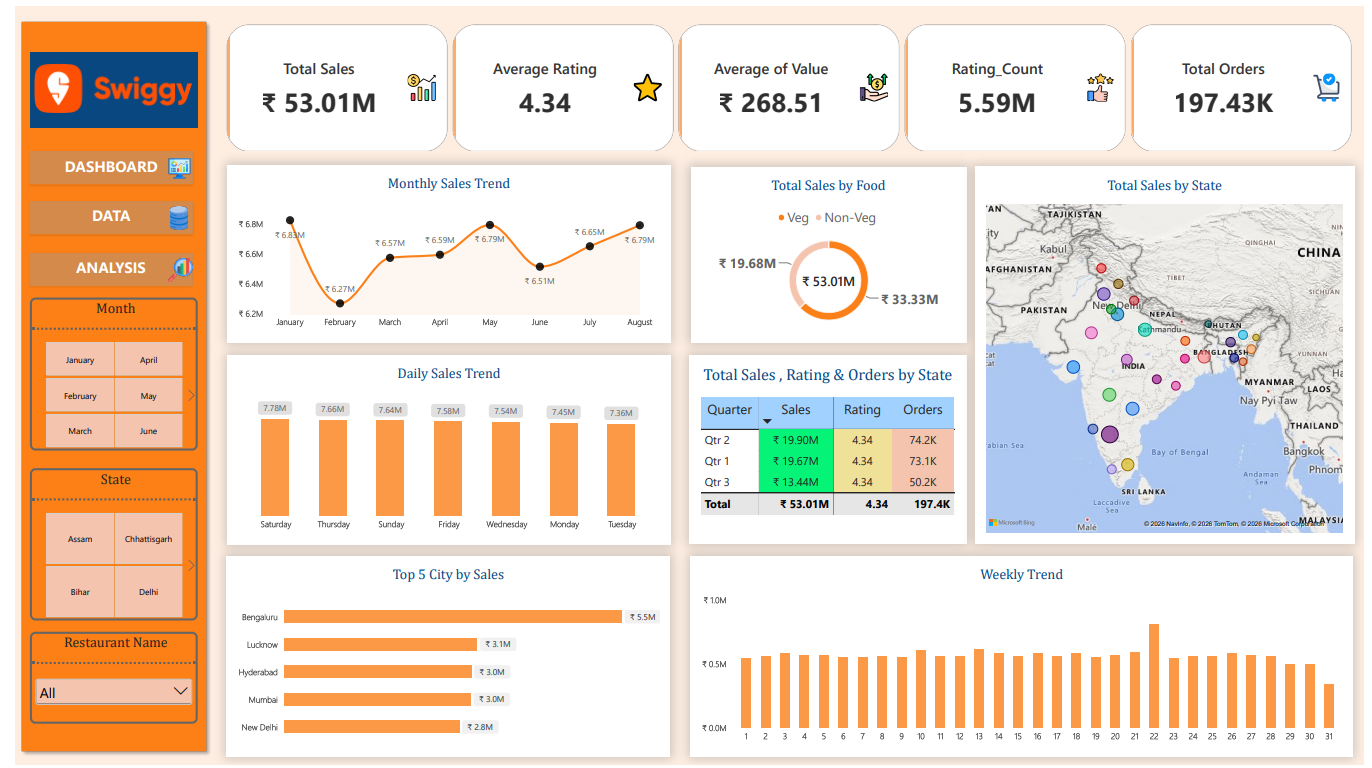

The dashboard page shown, as its layout file describes it:
{"tool":"powerbi","page":{"name":"Page 1","canvas":[1920,1080],"ordinal":0},"visuals":[{"type":"shape","box":[0,12.7,278.7,1055],"z":0},{"type":"shape","box":[19.9,65.1,238.9,106.8],"z":1000},{"type":"cardVisual","fields":{"Data":["Swiggy Data.Total Sales","Swiggy Data.Average Rating","Swiggy Data.Average of Value","Swiggy Data.Rating_Count","Swiggy Data.Total Orders"]},"box":[300.4,25.3,1605.2,181],"z":2000},{"type":"lineChart","title":"Monthly  Sales Trend","fields":{"Category":["Swiggy Data.Order Date.Variation.Date Hierarchy.Month"],"Y":["Swiggy Data.Total Sales"]},"box":[300.8,225.1,631.9,253.2],"z":3000},{"type":"donutChart","title":"Total Sales by Food","fields":{"Y":["Swiggy Data.Total Sales"],"Category":["Swiggy Data.Food Type"]},"box":[960.9,228,392.7,249.7],"z":4000},{"type":"clusteredColumnChart","title":"Daily Sales Trend","fields":{"Category":["Swiggy Data.Day"],"Y":["Sum(Swiggy Data.Price)"]},"box":[300.8,495.6,631.9,270.5],"z":5000},{"type":"tableEx","title":"Total Sales , Rating & Orders by State","fields":{"Values":["Swiggy Data.Order Date.Variation.Date Hierarchy.Quarter","Swiggy Data.Total Sales","Swiggy Data.Average Rating","Swiggy Data.Total Orders"]},"box":[959.1,495.8,394.5,269.6],"z":6000},{"type":"map","title":"Total Sales by State","fields":{"Size":["Swiggy Data.Total Sales"],"Category":["Swiggy Data.State"],"Series":["Swiggy Data.City"]},"box":[1366.3,228,539.3,537.5],"z":7000},{"type":"clusteredBarChart","title":"Top 5 City by Sales","fields":{"Y":["Swiggy Data.Total Sales"],"Category":["Swiggy Data.City"]},"box":[300.4,781.8,631.6,285.9],"z":8000},{"type":"columnChart","title":"Weekly Trend","fields":{"Category":["Swiggy Data.Order Date.Variation.Date Hierarchy.Day"],"Y":["Swiggy Data.Total Sales"]},"box":[960.9,781.8,942.8,285.9],"z":9000},{"type":"image","box":[27.1,65.1,224.4,101.3],"z":10000},{"type":"slicer","title":"Month","fields":{"Values":["Swiggy Data.Order Date.Variation.Date Hierarchy.Month"]},"box":[19.9,414.4,238.9,217.2],"z":11000},{"type":"slicer","title":"State","fields":{"Values":["Swiggy Data.State"]},"box":[19.9,656.9,238.9,217.2],"z":12000},{"type":"slicer","title":"Restaurant Name","fields":{"Values":["Swiggy Data.Restaurant Name"]},"box":[19.9,890.4,238.9,130.3],"z":13000},{"type":"textbox","box":[19.9,206.3,231.6,47.1],"z":14000},{"type":"textbox","box":[19.9,276.9,231.6,47],"z":15000},{"type":"textbox","box":[19.9,351.1,231,47],"z":16000},{"type":"image","box":[206.3,213.5,52.5,32.6],"z":17000},{"type":"image","box":[206.3,284.1,52.5,32.6],"z":18000},{"type":"image","box":[208.1,358.3,52.5,32.6],"z":19000}]}

Visuals, with their boxes in screenshot pixels (x1, y1, x2, y2), scaled from the page's 1920x1080 canvas onto the 1372x768 screenshot:
shape: BBox(0, 9, 199, 759)
shape: BBox(14, 46, 185, 122)
cardVisual - Swiggy Data.Total Sales x Swiggy Data.Average Rating: BBox(215, 18, 1362, 147)
"Monthly  Sales Trend" lineChart: BBox(215, 160, 666, 340)
"Total Sales by Food" donutChart: BBox(687, 162, 967, 340)
"Daily Sales Trend" clusteredColumnChart: BBox(215, 352, 666, 545)
"Total Sales , Rating & Orders by State" tableEx: BBox(685, 353, 967, 544)
"Total Sales by State" map: BBox(976, 162, 1362, 544)
"Top 5 City by Sales" clusteredBarChart: BBox(215, 556, 666, 759)
"Weekly Trend" columnChart: BBox(687, 556, 1360, 759)
image: BBox(19, 46, 180, 118)
"Month" slicer: BBox(14, 295, 185, 449)
"State" slicer: BBox(14, 467, 185, 622)
"Restaurant Name" slicer: BBox(14, 633, 185, 726)
textbox: BBox(14, 147, 180, 180)
textbox: BBox(14, 197, 180, 230)
textbox: BBox(14, 250, 179, 283)
image: BBox(147, 152, 185, 175)
image: BBox(147, 202, 185, 225)
image: BBox(149, 255, 186, 278)
